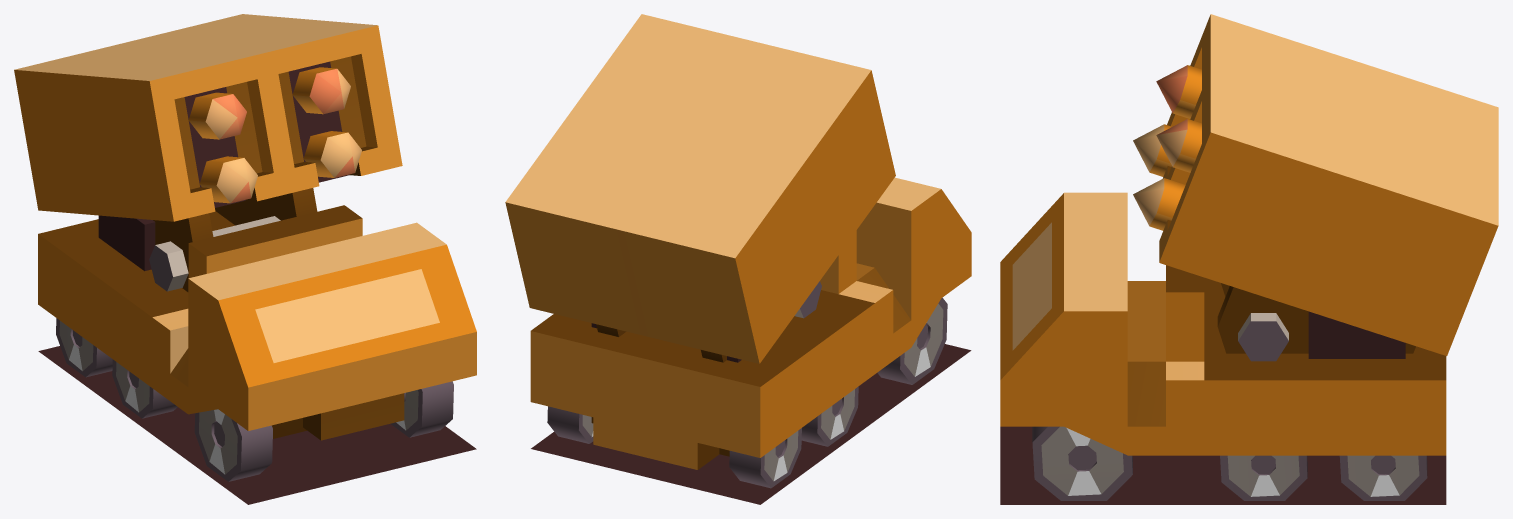
File: RocketMesh.AmberBlaze.glb
3 views of the same model, side by side, from view 1: azimuth 30°, elevation 25°; view 2: azimuth 150°, elevation 25°; view 3: azimuth 270°, elevation 25° (orthographic). The views are drawn at different scales.
Parts seen in each view (by area): view 1: RocketMesh.AmberBlaze; view 2: RocketMesh.AmberBlaze; view 3: RocketMesh.AmberBlaze.
Boxes of the visible parts, <box> form: RocketMesh.AmberBlaze: <box>14,14,476,504</box>; RocketMesh.AmberBlaze: <box>505,14,971,504</box>; RocketMesh.AmberBlaze: <box>1000,14,1498,504</box>.
Size of the model in its own units: 1.1 by 1.63 by 1.96.
Materials: 1 (1 with a texture image).
